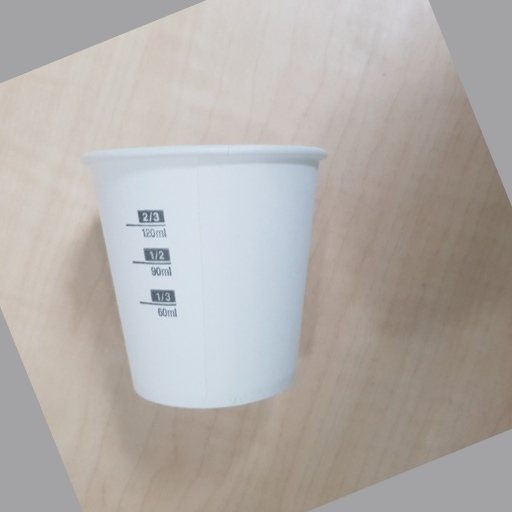Paper_1: (77, 143, 329, 414)
